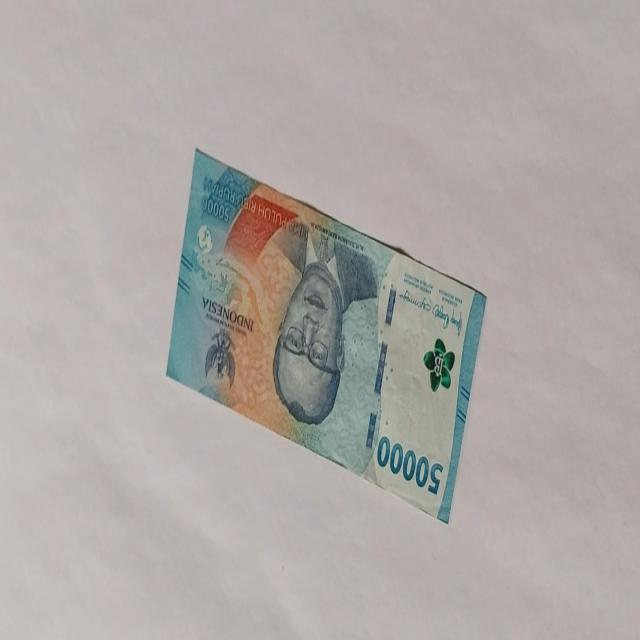lima puluh ribu rupiah: (165, 146, 488, 524), (375, 434, 444, 496)
